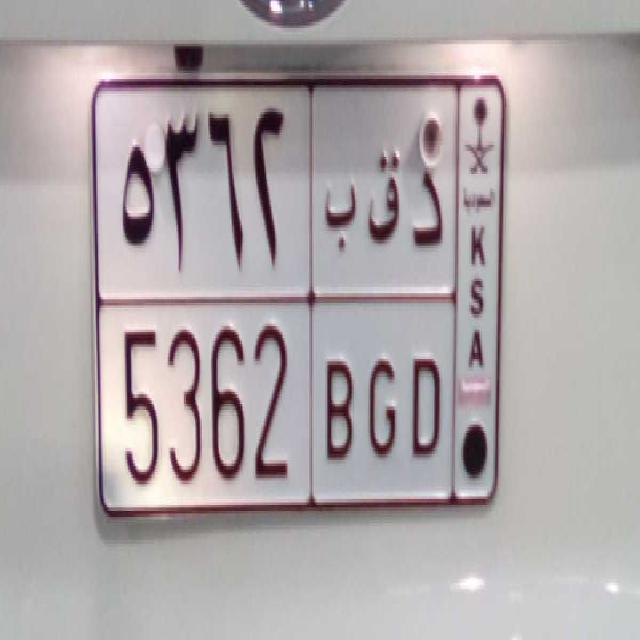license_plate: (96, 300, 453, 505)
